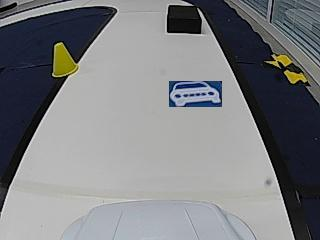block: (166, 5, 201, 33)
cone: (52, 44, 79, 78)
